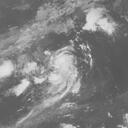cyclone: (39, 45, 88, 104)
